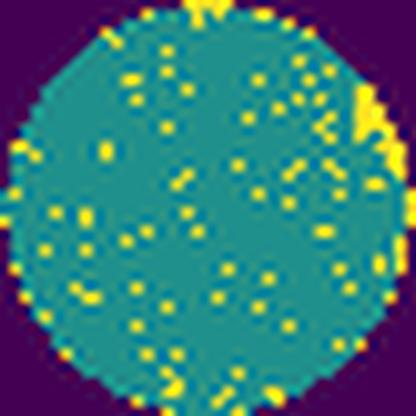Edge-Loc: (349, 76, 410, 185), (176, 0, 234, 33)
